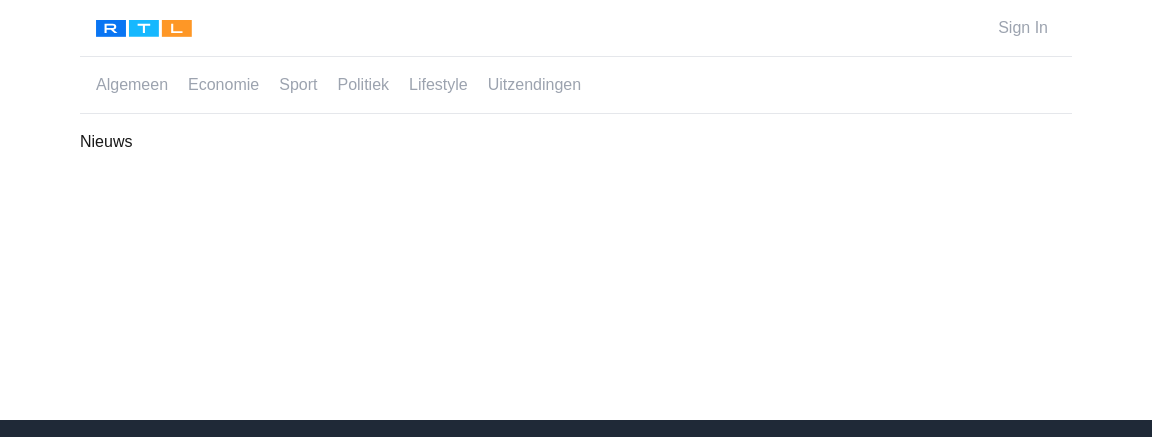
Header Component › should navigate to the Economie page
The width and height of the screenshot is (1152, 437).
Click the link to "/nieuws/economie" at (224, 85), box x1=188 y1=73 x2=259 y2=97
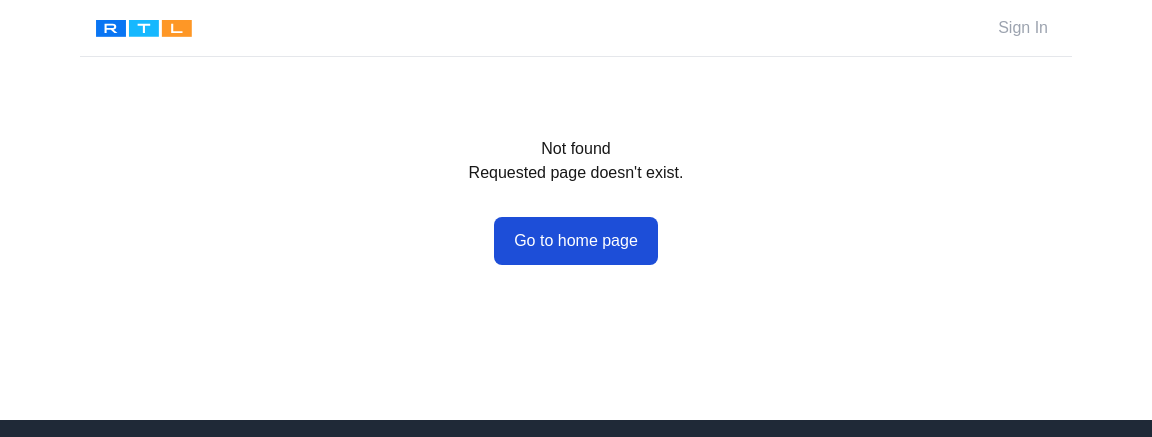
Check: the heading "Not found" is shown, box x1=541 y1=140 x2=611 y2=157
